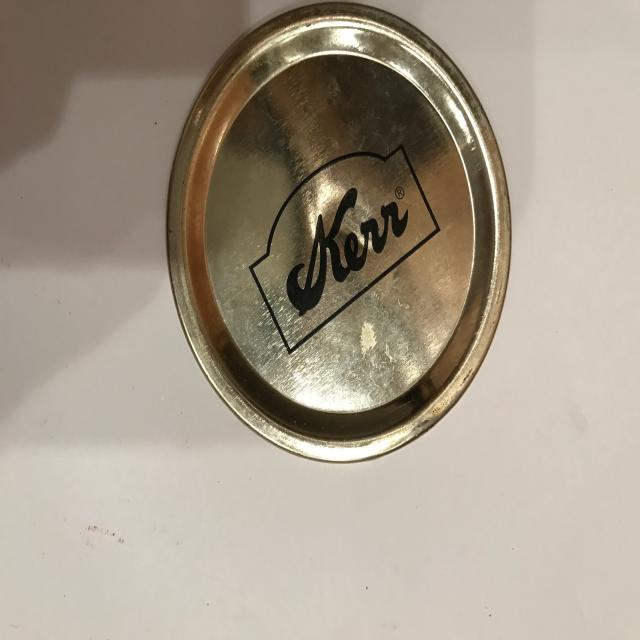Metal: (150, 3, 528, 483)
